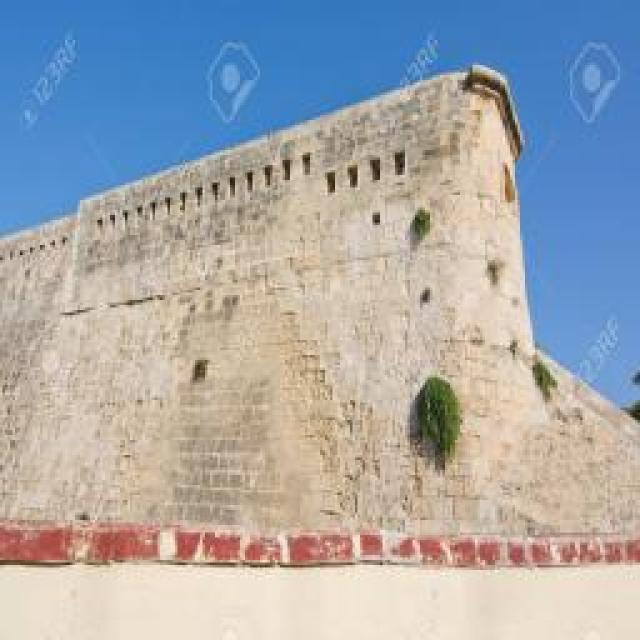crack: (30, 528, 70, 561)
dampness: (1, 61, 638, 551), (105, 267, 317, 527), (2, 285, 183, 521), (87, 199, 282, 317)
vegetation: (459, 63, 525, 149), (412, 375, 462, 472), (409, 207, 432, 244), (191, 358, 210, 383), (487, 260, 502, 287), (280, 139, 297, 162)
